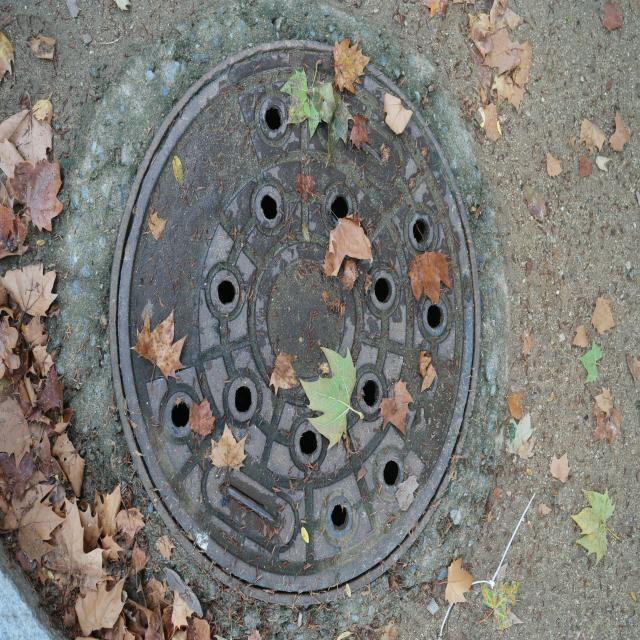manhole: (108, 41, 504, 605)
